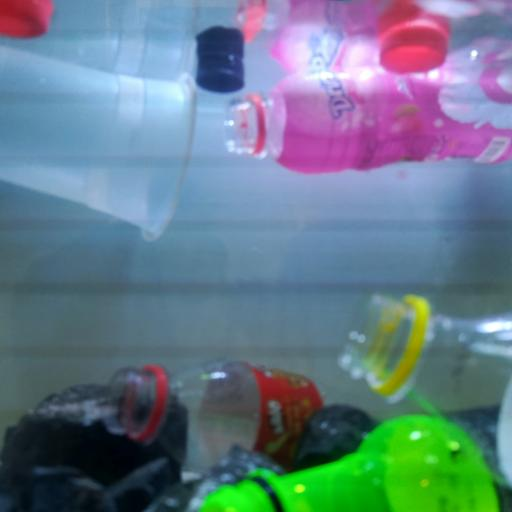bottle_cap: (381, 25, 445, 73), (0, 0, 52, 39), (200, 56, 244, 91)
plastic_bottle: (336, 290, 512, 484), (199, 404, 512, 512), (226, 66, 512, 175), (105, 360, 362, 465)
plastic_cup: (0, 45, 199, 240)
